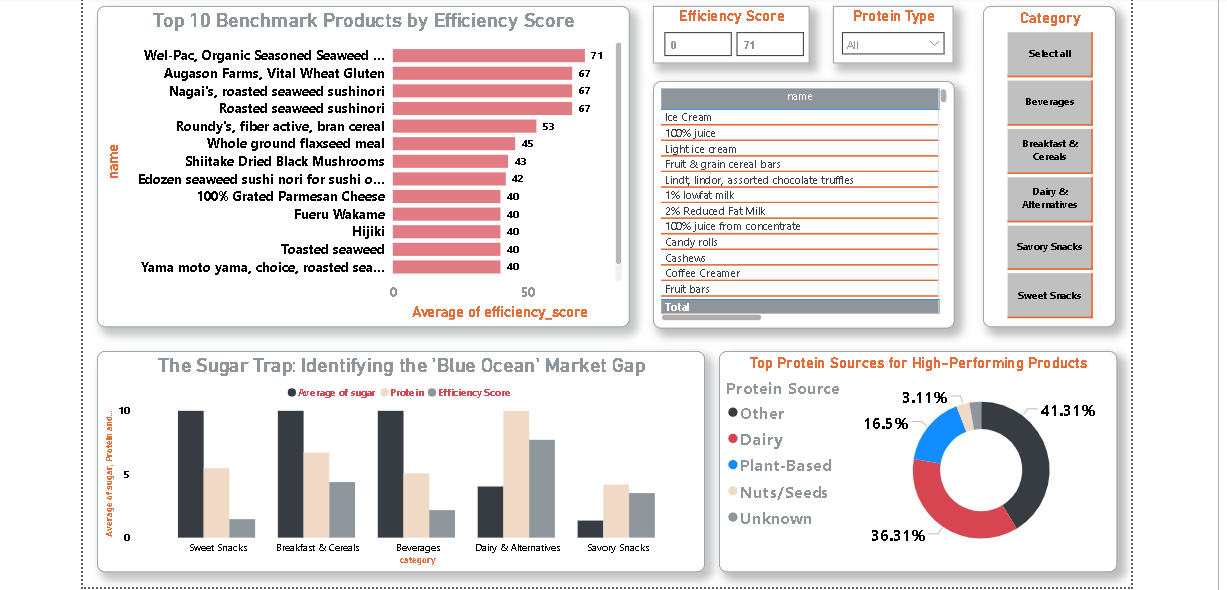

What the dashboard file says about the page in this screenshot:
{"tool":"powerbi","page":{"name":"R&D Dive Deep","canvas":[1280,720],"ordinal":1},"visuals":[{"type":"clusteredColumnChart","title":"The Sugar Trap: Identifying the ''Blue Ocean'' Market Gap","fields":{"Category":["final_marketing_analysis.category"],"Y":["Avg(final_marketing_analysis.sugar)","Avg(final_marketing_analysis.protein)","Avg(final_marketing_analysis.efficiency_score)"]},"box":[16.5,432.2,741.8,269.8],"z":0},{"type":"slicer","title":"Efficiency Score","fields":{"Values":["final_marketing_analysis.efficiency_score"]},"box":[695.1,11,191.3,70.2],"z":1000},{"type":"slicer","title":"Protein Type","fields":{"Values":["final_marketing_analysis.protein_source"]},"box":[915.3,11,147.3,70.2],"z":2000},{"type":"slicer","title":"Category","fields":{"Values":["final_marketing_analysis.category"]},"box":[1098.3,11,162.4,392.3],"z":3000},{"type":"donutChart","title":"Top Protein Sources for High-Performing Products","fields":{"Category":["final_marketing_analysis.protein_source"],"Y":["Count(final_marketing_analysis.name)"]},"box":[776.3,432.2,485.8,269.8],"z":4000},{"type":"clusteredBarChart","title":"Top 10 Benchmark Products by Efficiency Score","fields":{"Y":["Avg(final_marketing_analysis.efficiency_score)"],"Category":["final_marketing_analysis.name"]},"box":[16.5,11,649.6,392.3],"z":5000},{"type":"tableEx","fields":{"Values":["final_marketing_analysis.name","final_marketing_analysis.category","Avg(final_marketing_analysis.protein)","Avg(final_marketing_analysis.fiber)","Avg(final_marketing_analysis.sugar)","final_marketing_analysis.ingredients"]},"box":[695.4,102.5,367.9,302.4],"z":6000}]}

Visuals, with their boxes on the page's 1280x720 design canvas (x1, y1, x2, y2). These are canvas units, not pixel positions in the 1227x590 screenshot, which may show the page scaled, cropped or inside an application window:
"The Sugar Trap: Identifying the ''Blue Ocean'' Market Gap" clusteredColumnChart: left=16, top=432, right=758, bottom=702
"Efficiency Score" slicer: left=695, top=11, right=886, bottom=81
"Protein Type" slicer: left=915, top=11, right=1063, bottom=81
"Category" slicer: left=1098, top=11, right=1261, bottom=403
"Top Protein Sources for High-Performing Products" donutChart: left=776, top=432, right=1262, bottom=702
"Top 10 Benchmark Products by Efficiency Score" clusteredBarChart: left=16, top=11, right=666, bottom=403
tableEx - final_marketing_analysis.name x final_marketing_analysis.category: left=695, top=102, right=1063, bottom=405
